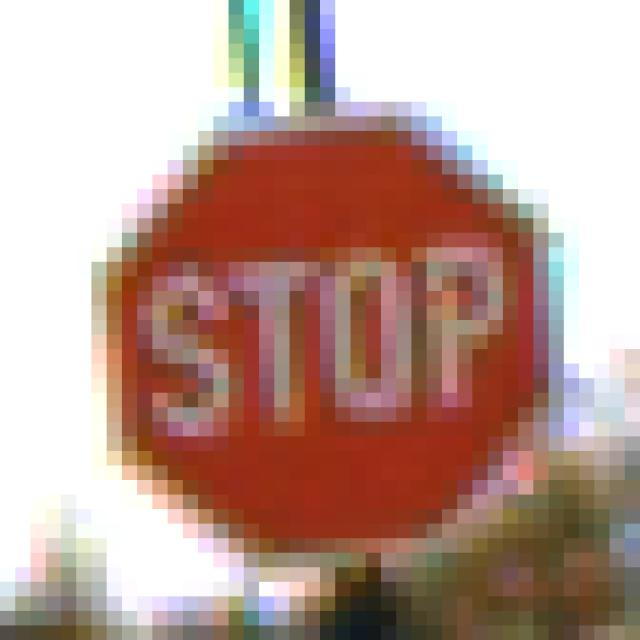STOP: (77, 89, 565, 569)
